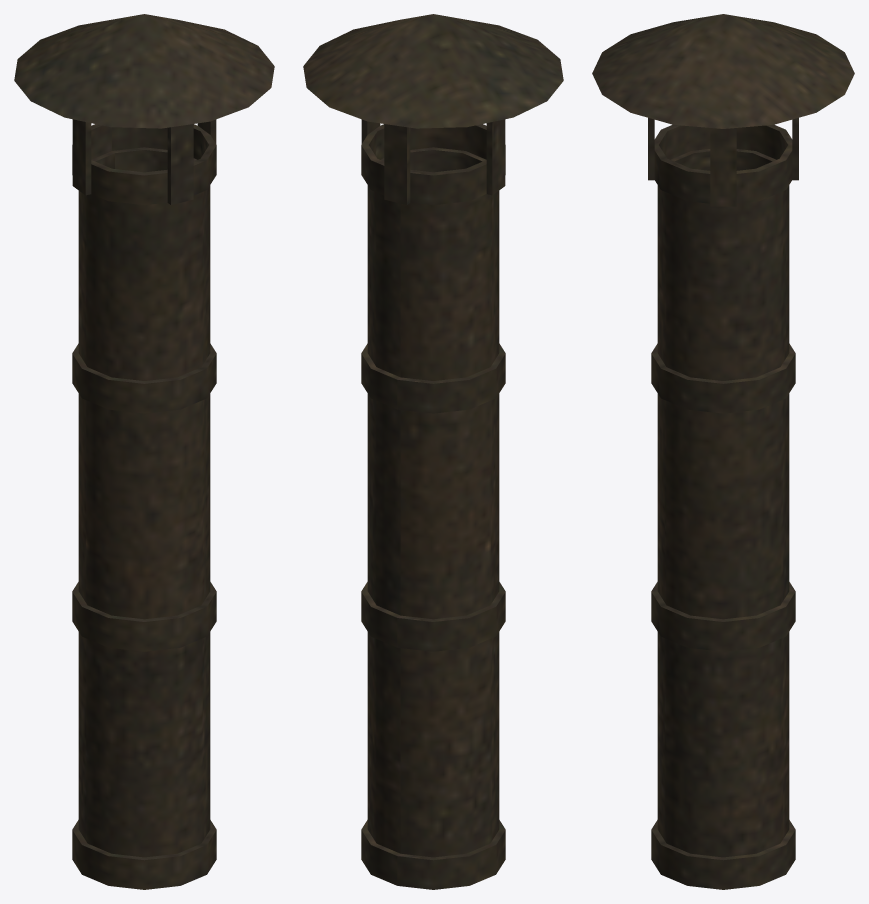
The model's file is chimney_a_2_1.obj.
3 renders of one model, left to right at view 1: azimuth 30°, elevation 25°; view 2: azimuth 150°, elevation 25°; view 3: azimuth 270°, elevation 25°, orthographic.
Visible parts, largest first — view 1: chimney_a_2_1; view 2: chimney_a_2_1; view 3: chimney_a_2_1.
Boxes of the visible parts, box(x1,y1,x2,y2) form: chimney_a_2_1: box(14, 14, 274, 889); chimney_a_2_1: box(303, 14, 563, 889); chimney_a_2_1: box(592, 14, 854, 889).
Bounding box in the file's own units: 0.4 × 1.42 × 0.4.
